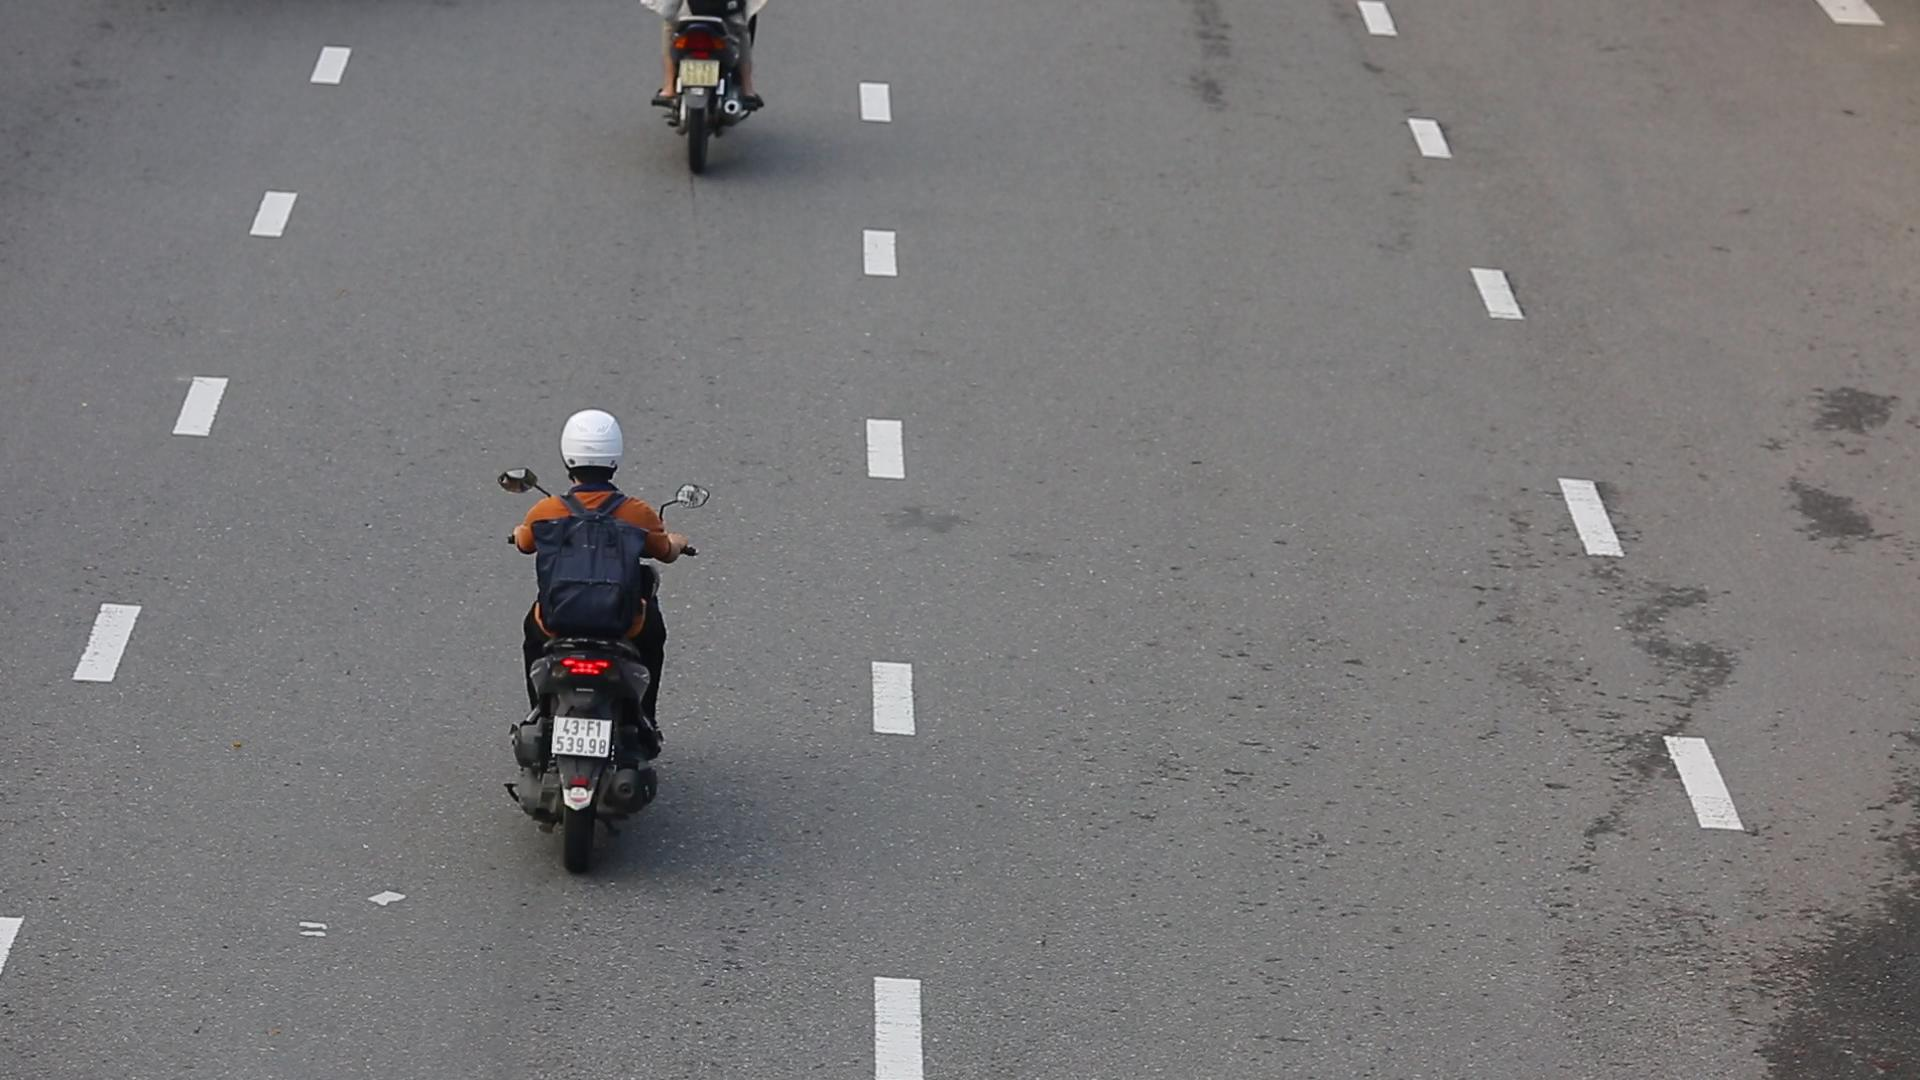motobike: (479, 397, 727, 897)
